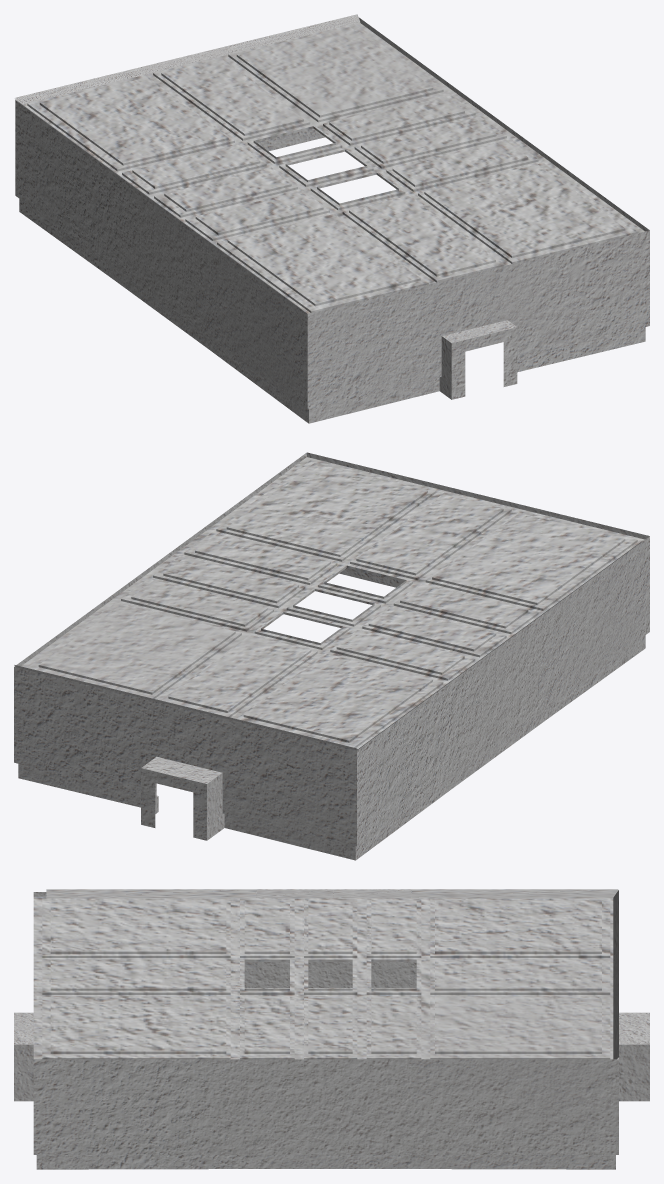
The model's file is Museum Wall_Big.fbx.
3 renders of one model, top to bottom at view 1: azimuth 30°, elevation 25°; view 2: azimuth 150°, elevation 25°; view 3: azimuth 270°, elevation 25°, orthographic.
Parts seen in each view (by area): view 1: hall1_walls; view 2: hall1_walls; view 3: hall1_walls.
Boxes of the visible parts, bbox=[...] form: hall1_walls: bbox=[15, 14, 649, 423]; hall1_walls: bbox=[14, 452, 649, 860]; hall1_walls: bbox=[14, 889, 649, 1169].
Bounding box in the file's own units: 20.25 × 6.4 × 32.42.
